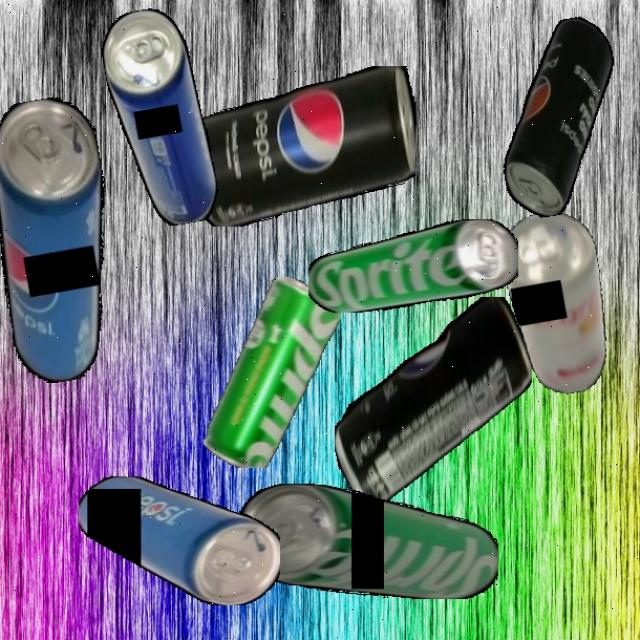debris: (334, 296, 532, 507), (0, 91, 137, 388), (192, 65, 415, 227), (480, 12, 638, 222), (237, 483, 498, 599), (96, 3, 222, 232), (204, 276, 341, 468), (78, 476, 280, 606), (495, 206, 619, 400), (307, 219, 518, 313)
